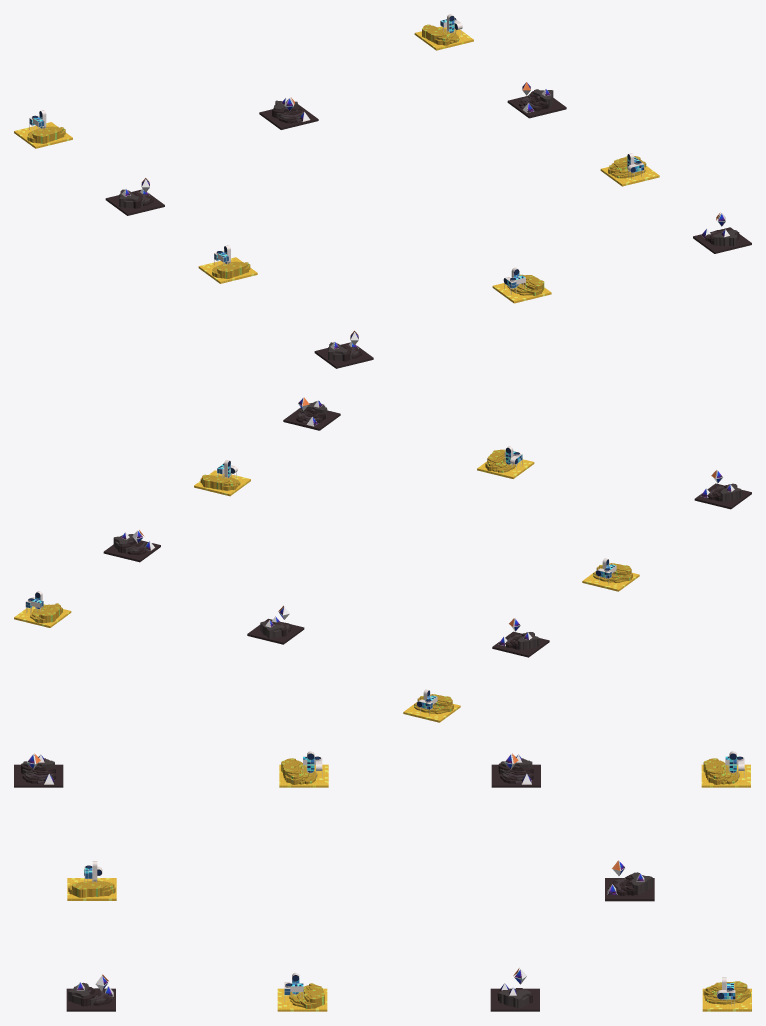
File: D9_Wildcard_Part_2.fbx
3 renders of one model, top to bottom at view 1: azimuth 30°, elevation 25°; view 2: azimuth 150°, elevation 25°; view 3: azimuth 270°, elevation 25°, orthographic. The views are drawn at different scales.
Visible parts, largest first — view 1: Cube.378, Cube.372, Cube.376, Cube.374, Cube.380, Cube.381, Cube.379, Cube.377, Cube.375, Cube.373; view 2: Cube.380, Cube.372, Cube.378, Cube.376, Cube.374, Cube.381, Cube.373, Cube.375, Cube.377, Cube.379; view 3: Cube.374, Cube.376, Cube.380, Cube.378, Cube.379, Cube.377, Cube.375, Cube.372, Cube.373, Cube.381.
Boxes of the visible parts, x1,y1,x2,y2 form: Cube.378: [414, 14, 473, 50]; Cube.372: [492, 267, 551, 303]; Cube.376: [14, 110, 72, 148]; Cube.374: [198, 245, 257, 283]; Cube.380: [600, 153, 659, 186]; Cube.381: [507, 82, 566, 118]; Cube.379: [259, 97, 318, 129]; Cube.377: [105, 178, 164, 215]; Cube.375: [314, 330, 373, 368]; Cube.373: [693, 212, 751, 253]; Cube.380: [194, 460, 250, 496]; Cube.372: [477, 446, 534, 478]; Cube.378: [14, 591, 71, 627]; Cube.376: [403, 689, 460, 722]; Cube.374: [582, 558, 639, 591]; Cube.381: [103, 530, 160, 562]; Cube.373: [283, 397, 340, 430]; Cube.375: [694, 470, 751, 509]; Cube.377: [492, 618, 549, 657]; Cube.379: [247, 605, 304, 644]; Cube.374: [279, 751, 328, 787]; Cube.376: [701, 751, 750, 787]; Cube.380: [277, 972, 327, 1011]; Cube.378: [702, 977, 751, 1011]; Cube.379: [605, 860, 654, 901]; Cube.377: [491, 753, 540, 787]; Cube.375: [14, 753, 63, 787]; Cube.372: [67, 861, 116, 900]; Cube.373: [66, 974, 115, 1011]; Cube.381: [490, 968, 539, 1011].
Size of the model in its own units: 46876 by 2654 by 59698.
Materials: 8 (8 with a texture image).
